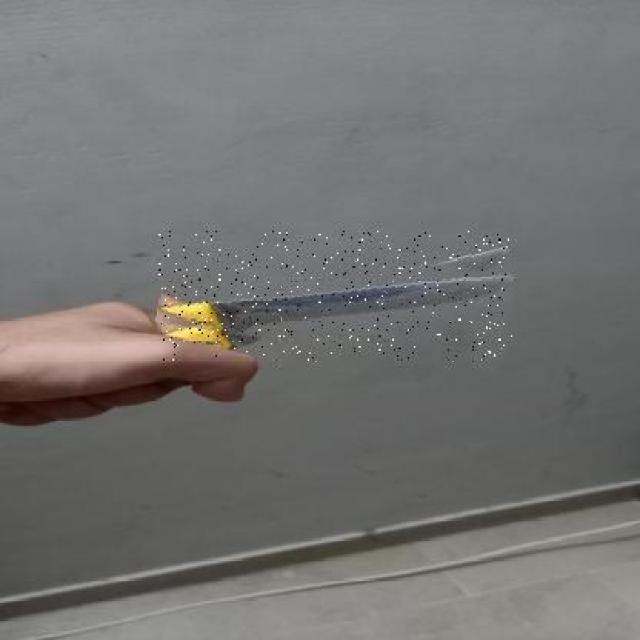knife: (158, 230, 514, 362)
